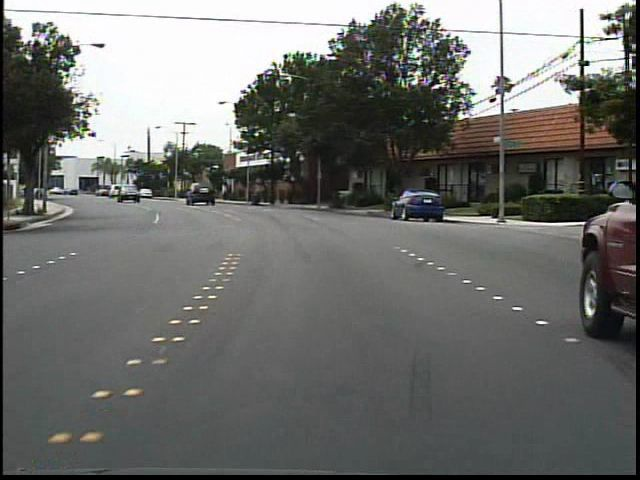person: (19, 178, 37, 208)
